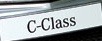character: (26, 19, 37, 33), (40, 17, 51, 31)
